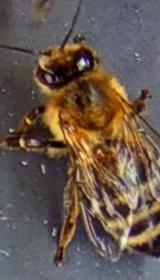varroa_mite: (86, 139, 114, 166)
